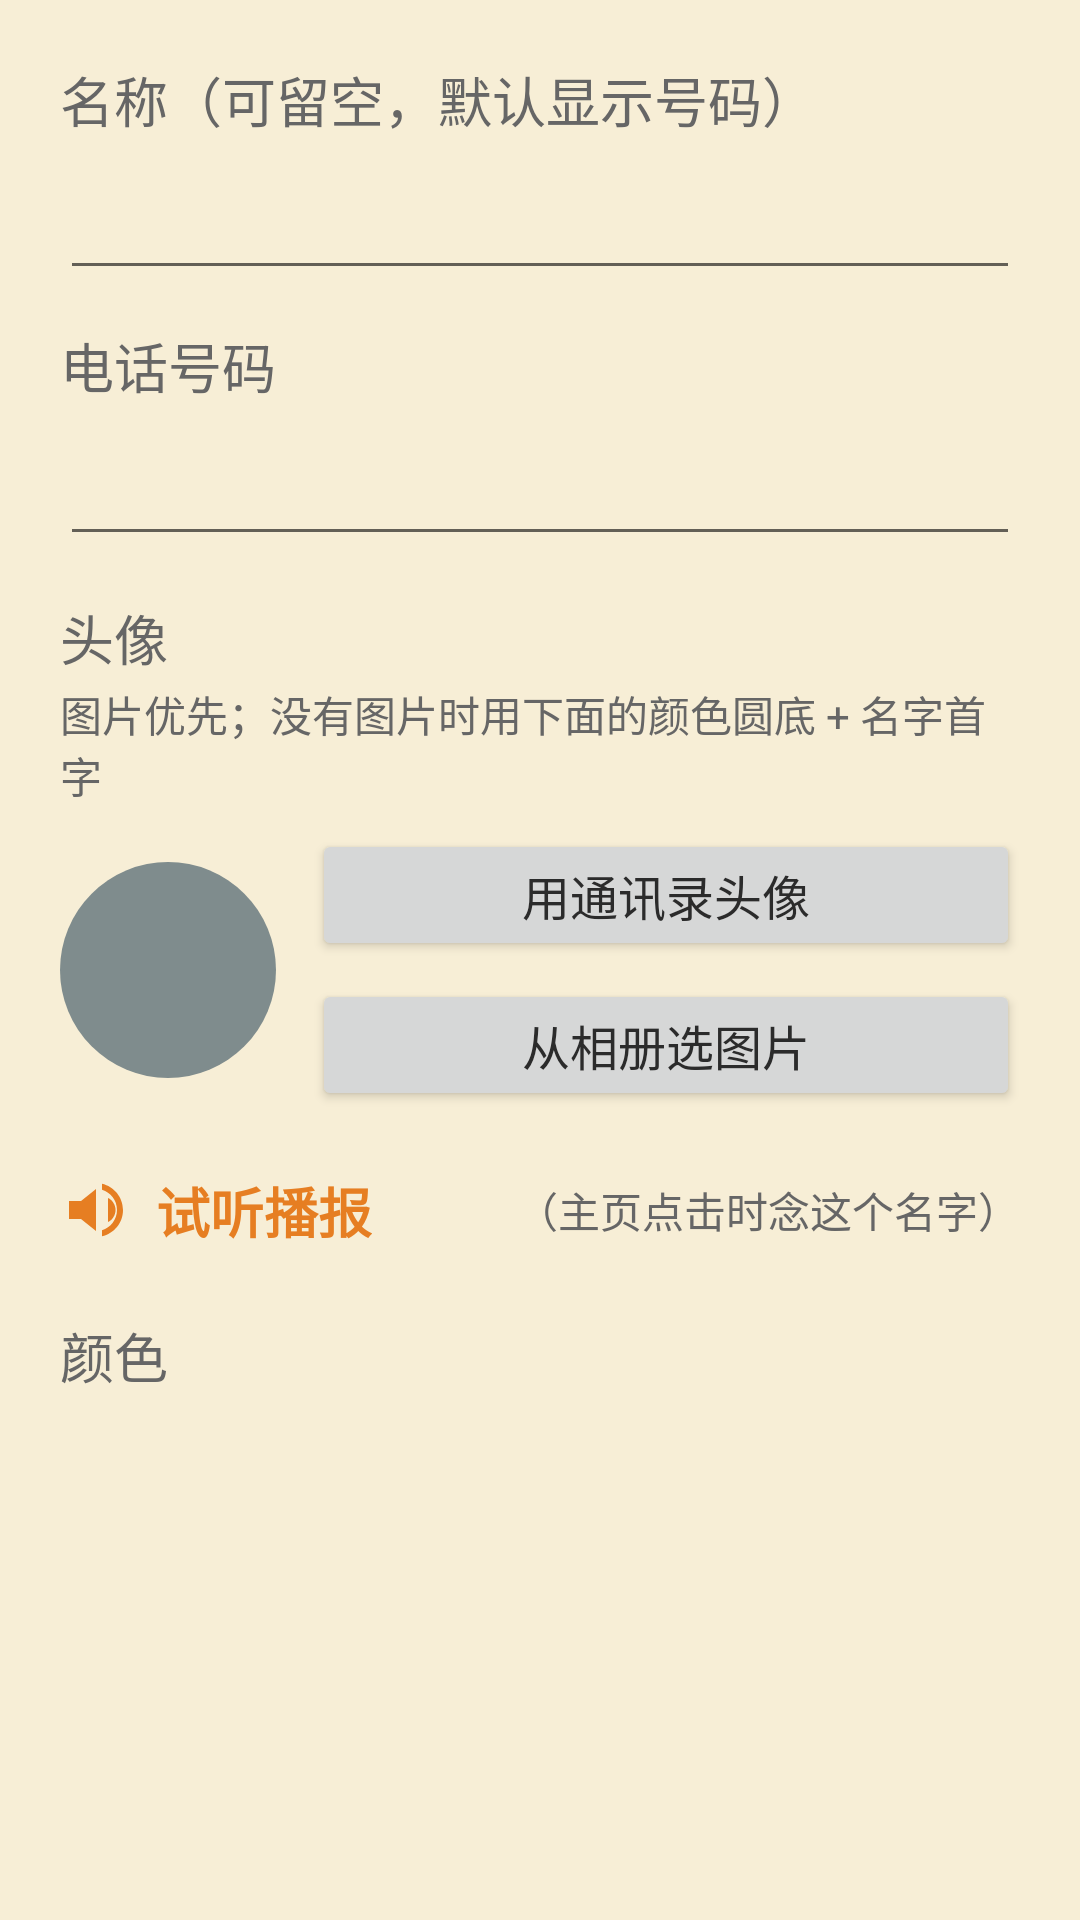

Icon click points for this 1080*1920 phone screenshot, format [x,y]:
volume: [96,1210]
